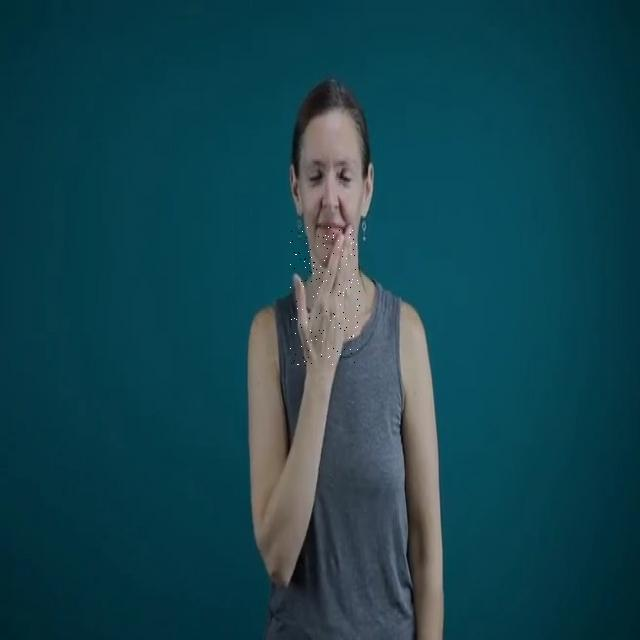napkin: (290, 224, 360, 366)
